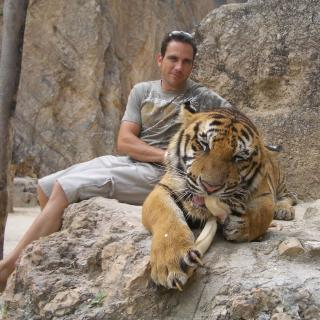Tiger: (141, 98, 298, 293)
